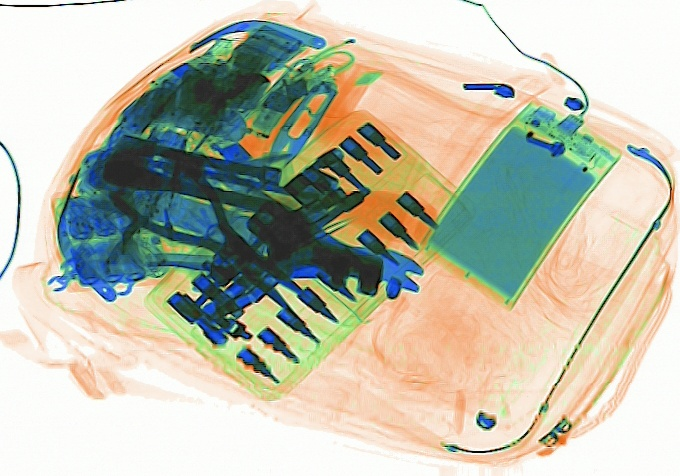scissors: (263, 78, 337, 171)
